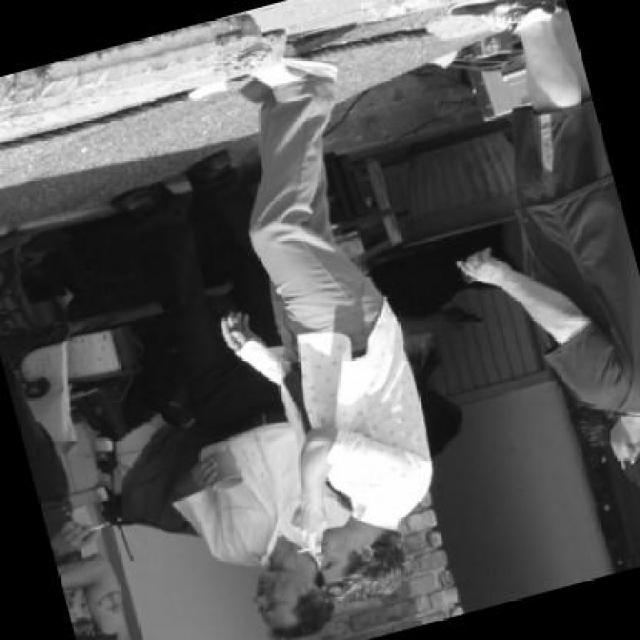cigarette: (290, 540, 322, 554)
